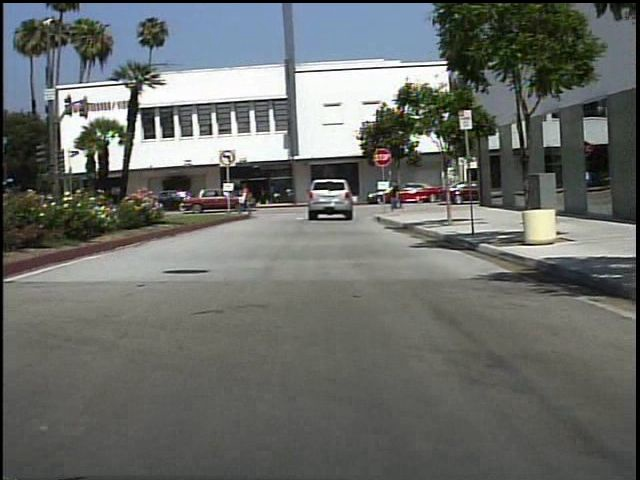person: (239, 180, 261, 220), (390, 176, 408, 214), (277, 181, 278, 208)
